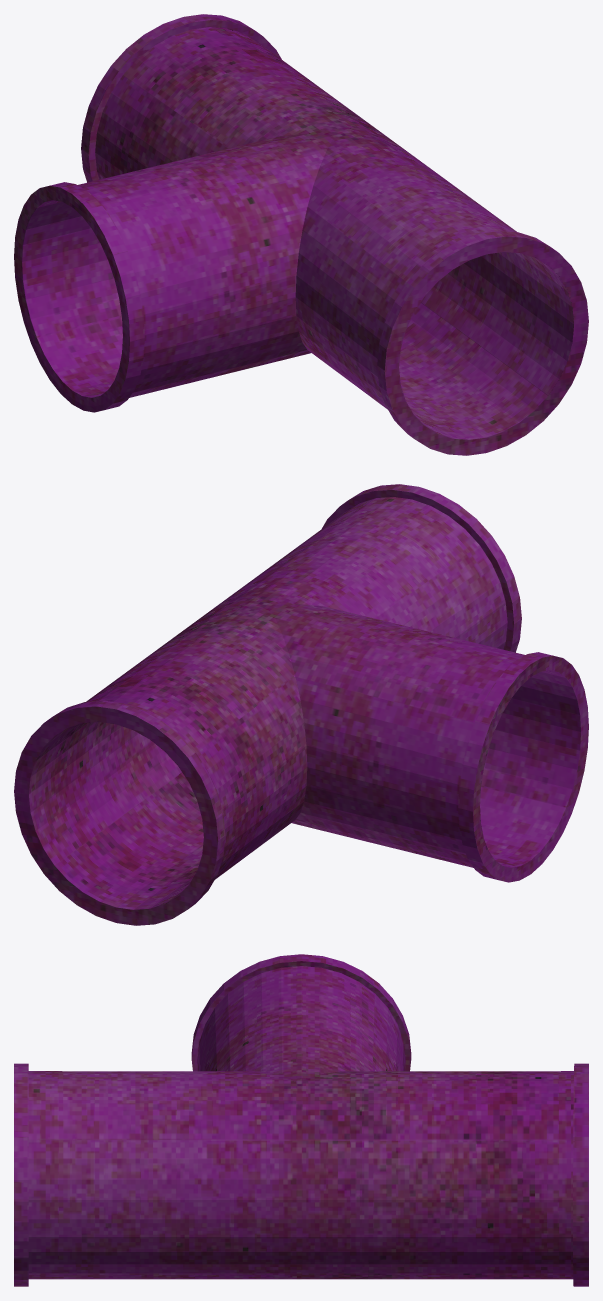
Rendered from TPipeFinal.fbx.
3 renders of one model, top to bottom at view 1: azimuth 30°, elevation 25°; view 2: azimuth 150°, elevation 25°; view 3: azimuth 270°, elevation 25°, orthographic. The views are drawn at different scales.
Visible parts, largest first — view 1: Tee Joint; view 2: Tee Joint; view 3: Tee Joint.
Part boxes in pixels (left/top/right/bottom): Tee Joint: left=14, top=14, right=588, bottom=455; Tee Joint: left=14, top=484, right=588, bottom=925; Tee Joint: left=14, top=954, right=588, bottom=1286.
Bounding box in the file's own units: 417 × 233 × 601.
